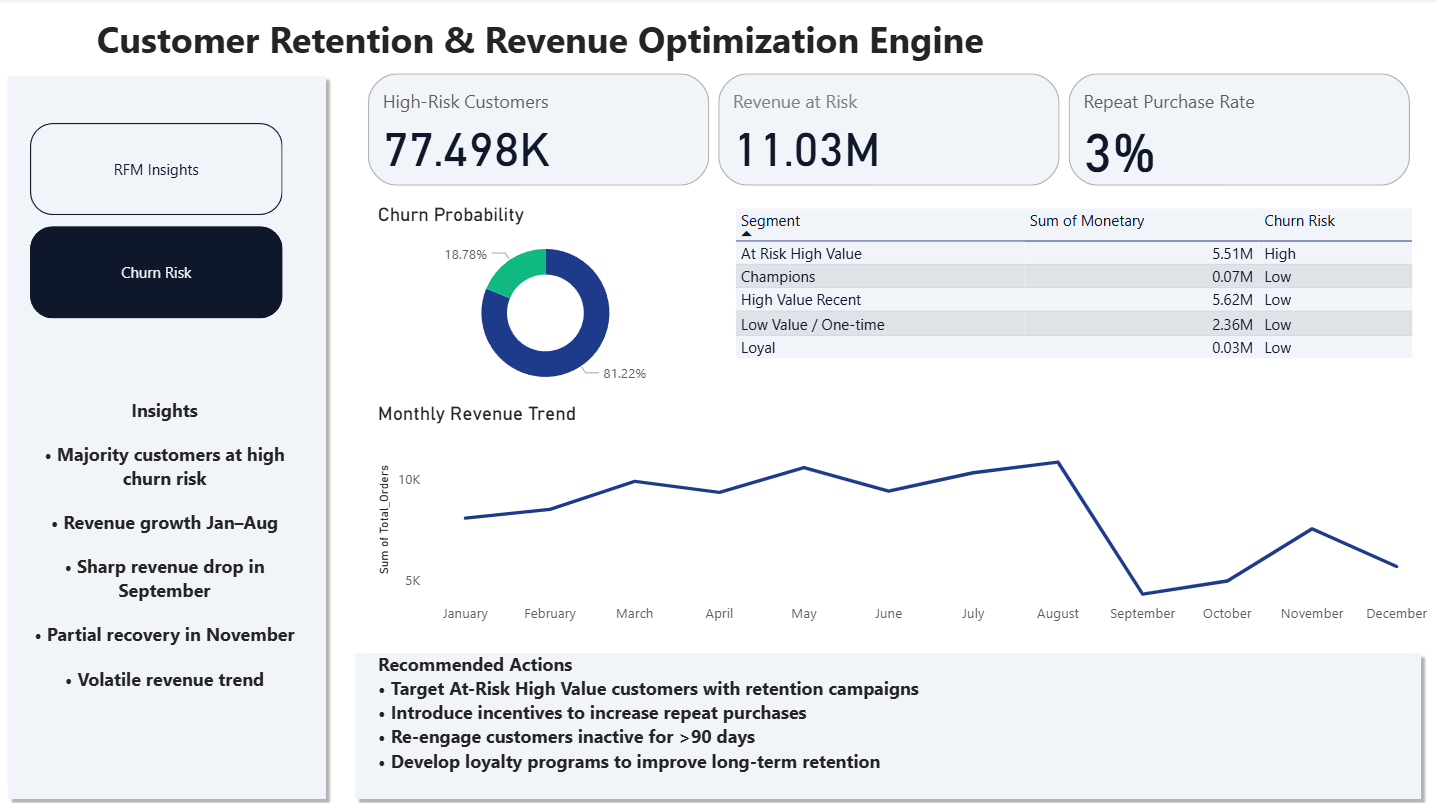

The dashboard page shown, as its layout file describes it:
{"tool":"powerbi","page":{"name":"Churn Risk","canvas":[1280,720],"ordinal":1},"visuals":[{"type":"donutChart","title":"Churn Probability","fields":{"Category":["customer_analytics.ChurnProb_Bin"],"Y":["CountNonNull(customer_analytics.customer_unique_id)"]},"box":[331.7,182.6,308.4,177],"z":0},{"type":"cardVisual","fields":{"Data":["CountNonNull(customer_analytics.customer_unique_id)","Sum(customer_analytics.Monetary)","customer_analytics.Repeat Customer Rate"]},"box":[322.8,62.3,940.6,110.2],"z":1000},{"type":"lineChart","title":"Monthly Revenue Trend","fields":{"Category":["monthly_orders.Month.Variation.Date Hierarchy.Month"],"Y":["Sum(monthly_orders.Total_Orders)"]},"box":[331.7,359.6,948.4,207.1],"z":2000},{"type":"textbox","box":[81,9.8,928.8,52.8],"z":3000},{"type":"shape","box":[0,62.3,296.9,657.7],"z":4000},{"type":"pageNavigator","box":[27,111.7,225.8,175.5],"z":5000},{"type":"tableEx","fields":{"Values":["customer_analytics.Segment","Sum(customer_analytics.Monetary)","customer_analytics.Churn Risk"]},"box":[649,182.6,614.5,168.1],"z":6000},{"type":"textbox","box":[13.5,350.9,266.3,355.8],"z":7000},{"type":"shape","box":[309.5,576.6,962.9,143.6],"z":8000},{"type":"textbox","box":[331.3,576.7,932.5,130.1],"z":9000}]}

Visuals, with their boxes in screenshot pixels (x1, y1, x2, y2), scaled from the page's 1280x720 canvas onto the 1437x803 screenshot:
"Churn Probability" donutChart: region(372, 204, 719, 401)
cardVisual - CountNonNull(customer_analytics.customer_unique_id) x Sum(customer_analytics.Monetary): region(362, 69, 1418, 192)
"Monthly Revenue Trend" lineChart: region(372, 401, 1436, 632)
textbox: region(91, 11, 1134, 70)
shape: region(0, 69, 333, 802)
pageNavigator: region(30, 125, 284, 320)
tableEx - customer_analytics.Segment x Sum(customer_analytics.Monetary): region(729, 204, 1418, 391)
textbox: region(15, 391, 314, 788)
shape: region(347, 643, 1428, 802)
textbox: region(372, 643, 1419, 788)
